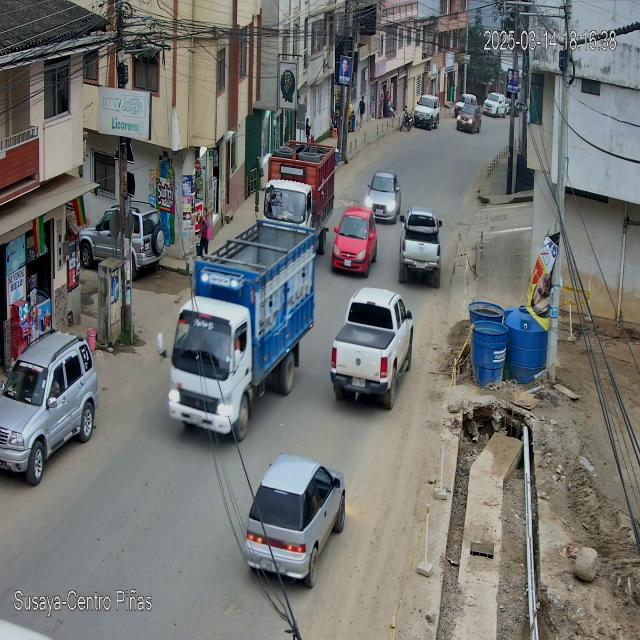CMT: (329, 288, 412, 411), (399, 207, 443, 289)
SED: (241, 451, 340, 583)
TRUCK: (168, 218, 318, 442), (255, 140, 336, 255)
